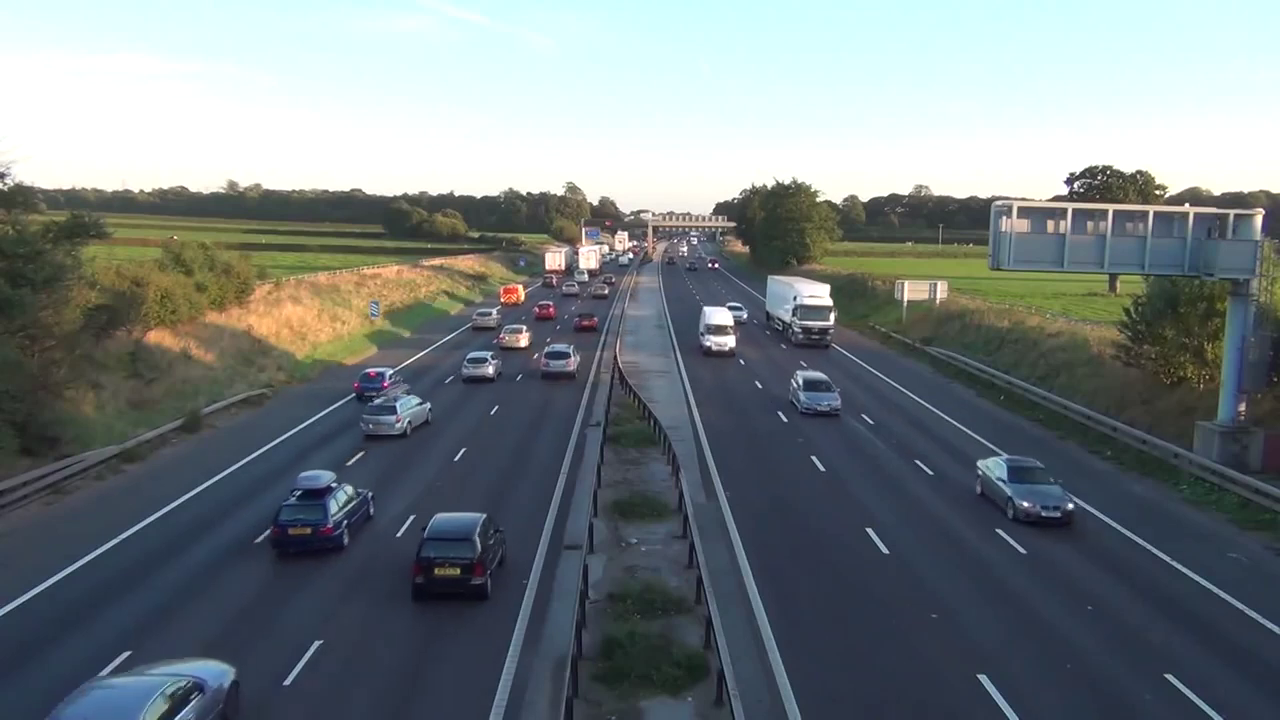Car: (259, 465, 379, 581), (411, 503, 509, 617), (977, 446, 1081, 531), (358, 386, 436, 442), (780, 363, 844, 416), (451, 346, 506, 386), (534, 338, 583, 382), (352, 359, 403, 397), (466, 302, 509, 336), (721, 291, 756, 331), (572, 304, 606, 340), (504, 317, 538, 350), (536, 297, 559, 319)
License_Plate: (278, 524, 320, 539), (1040, 505, 1068, 522), (432, 562, 458, 579)
Pickup: (693, 298, 738, 369)
Truck: (763, 266, 839, 355)
